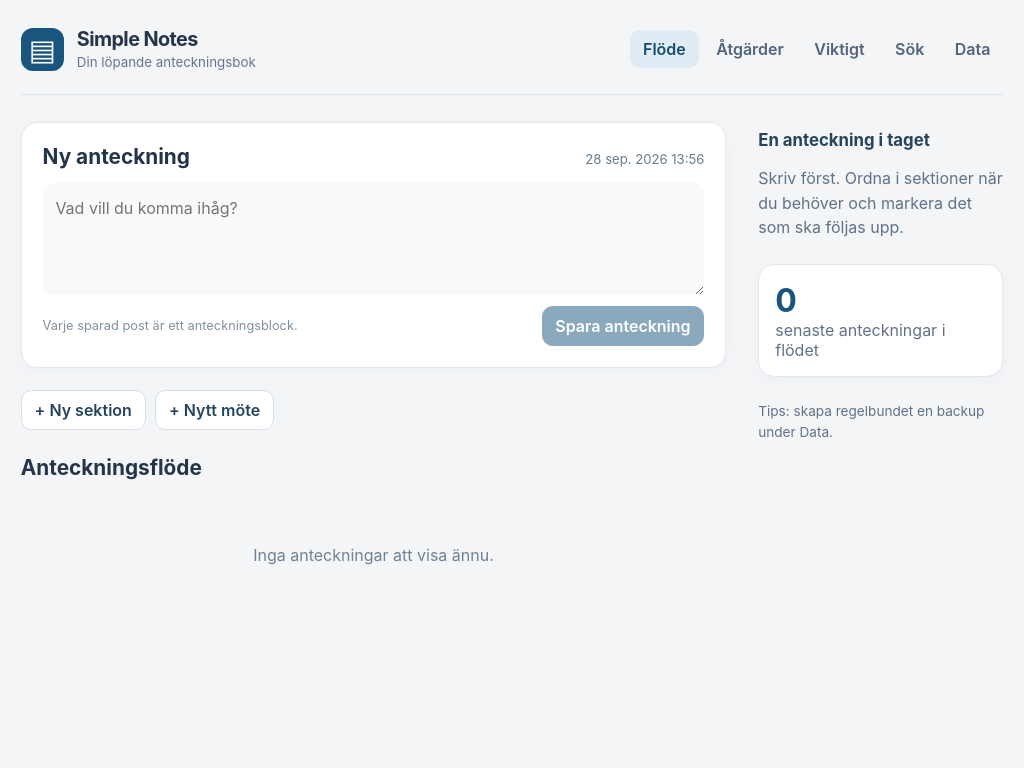
Scenario: Simple Notes app › creates a section and a note tied to it
Expected: the button "Spara anteckning" is disabled, [542,306,704,346]
Click the button "+ Ny sektion" at point(83, 410), box [21,390,146,430]
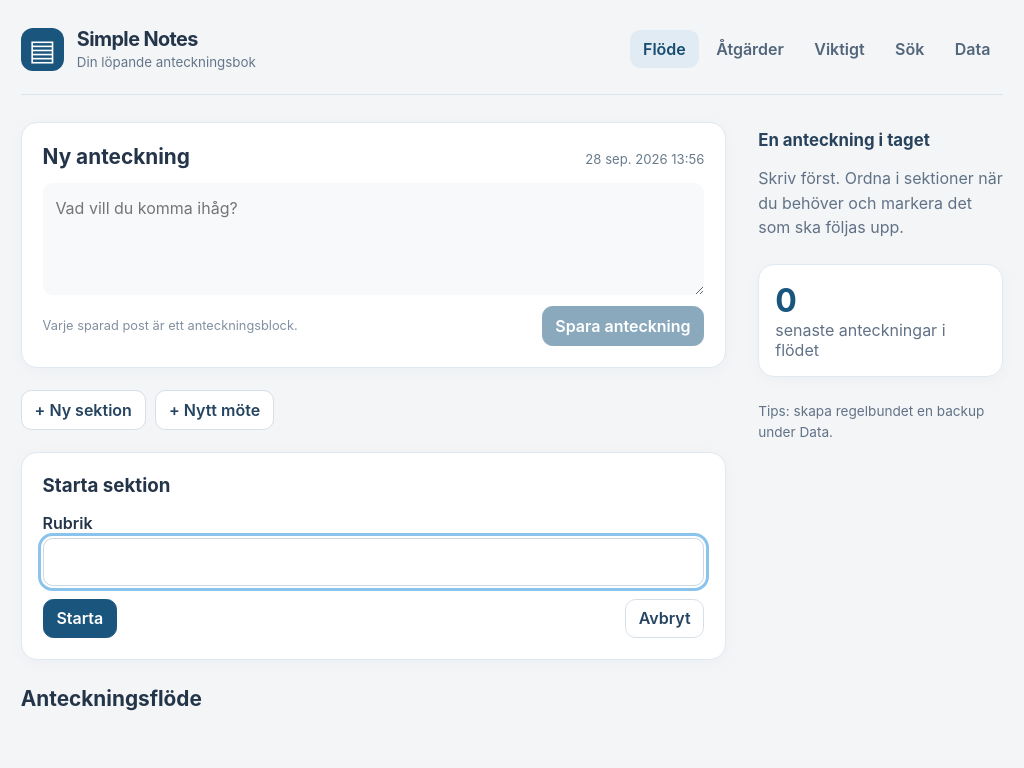
Type "Projekt" into the field labelled "Rubrik" at point(374, 562), box [43,538,704,586]
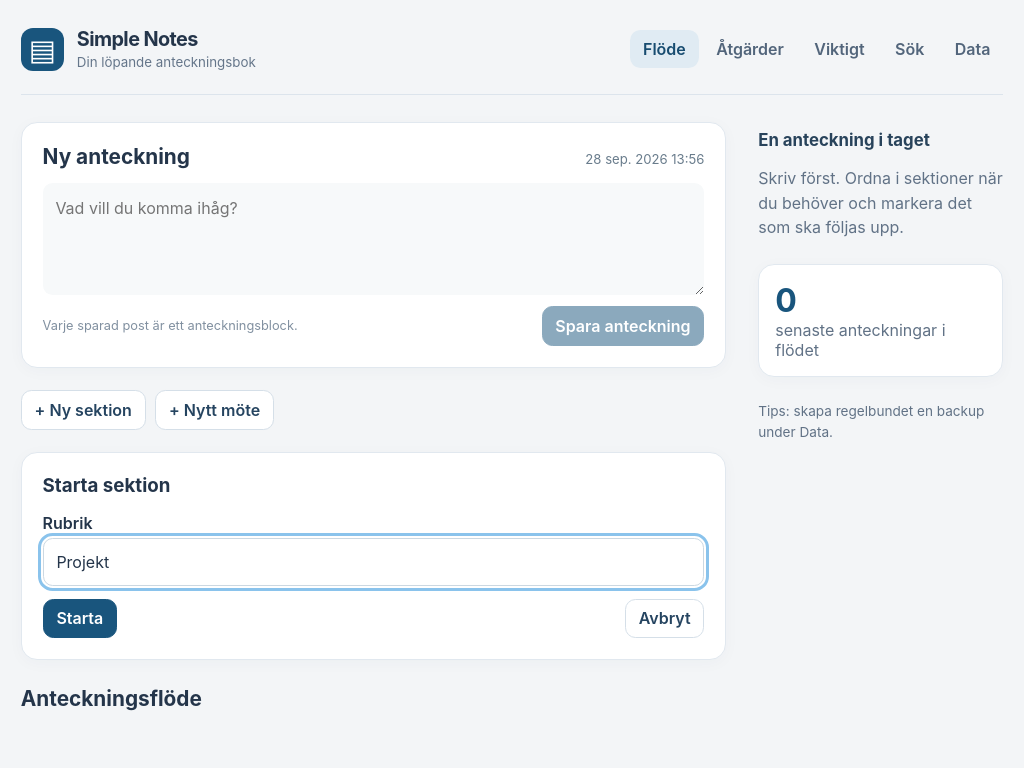
Click the button "Starta" at point(80, 618), box [43,599,117,638]
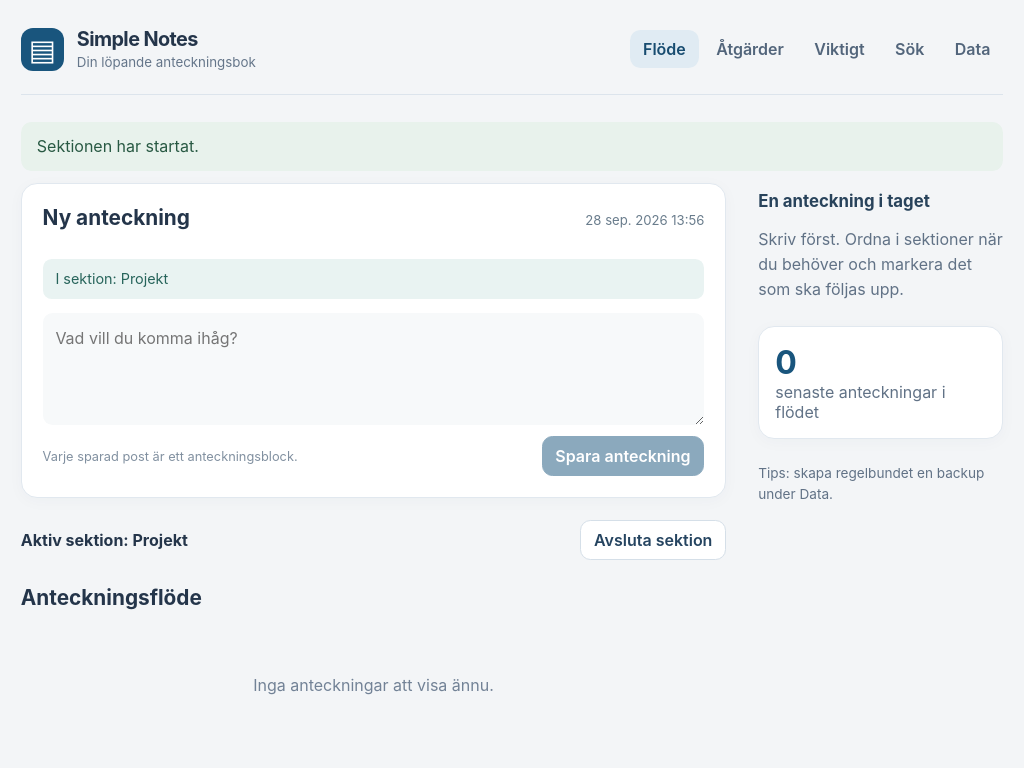
Expected: the text "I sektion: Projekt" is shown, [43,259,704,299]
Type "Beslut" into the text box named "Skriv en anteckning" at point(374, 369), box [43,313,704,425]
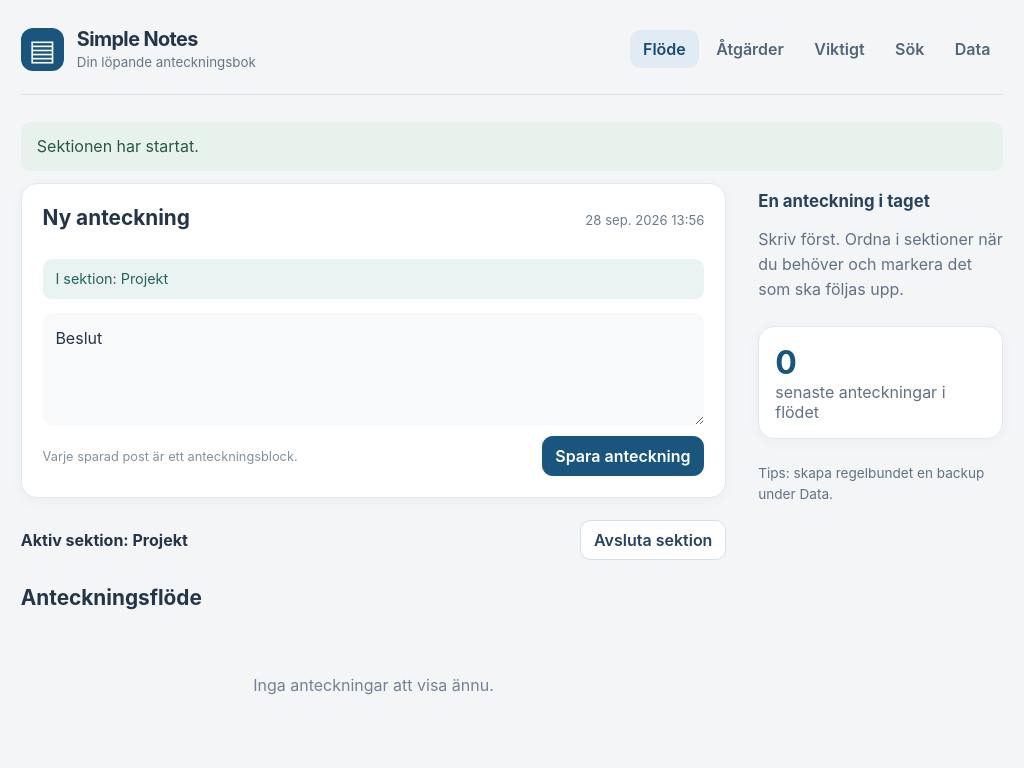
Click the button "Spara anteckning" at point(623, 456), box [542,436,704,476]
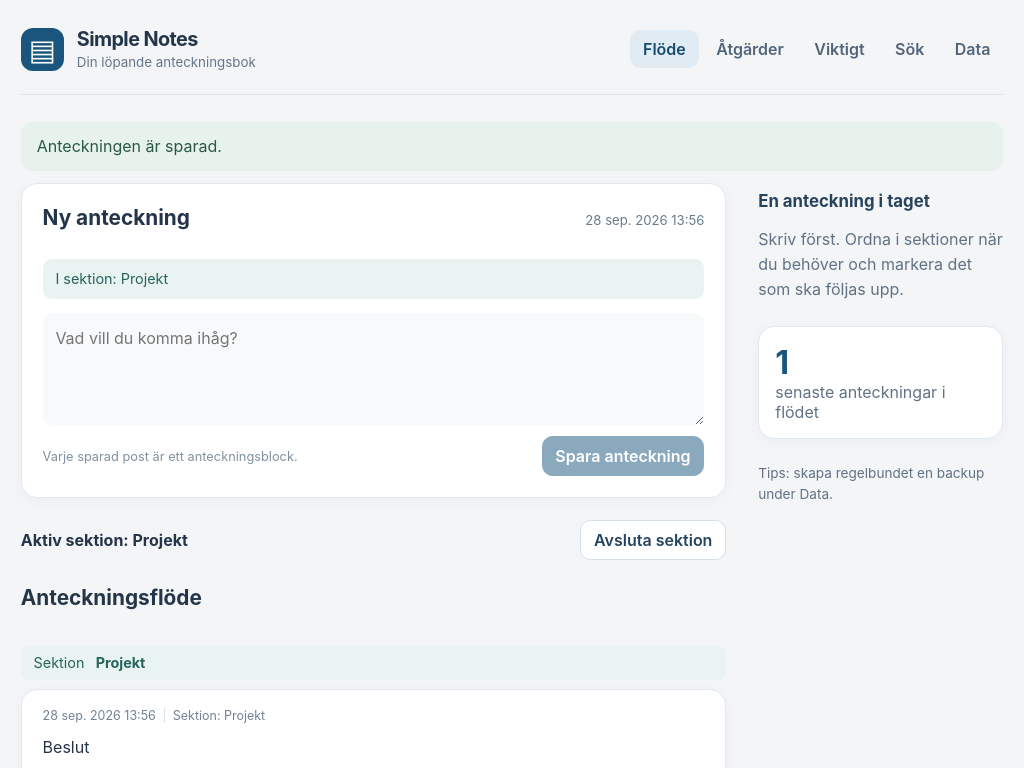
Expected: the text "Sektion: Projekt" is shown, [164,708,265,723]
